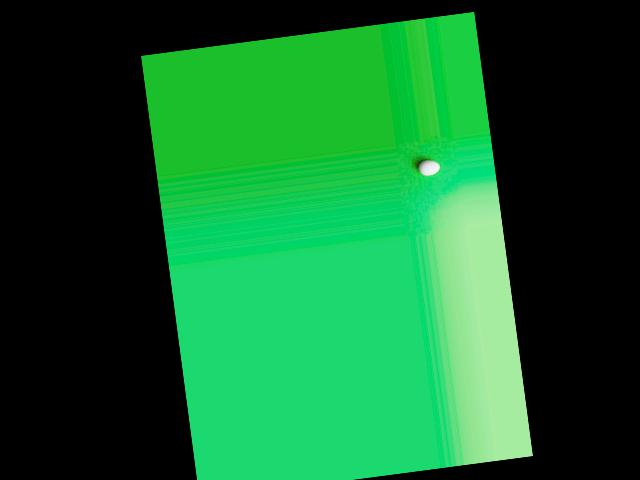egg: (417, 159, 440, 176)
